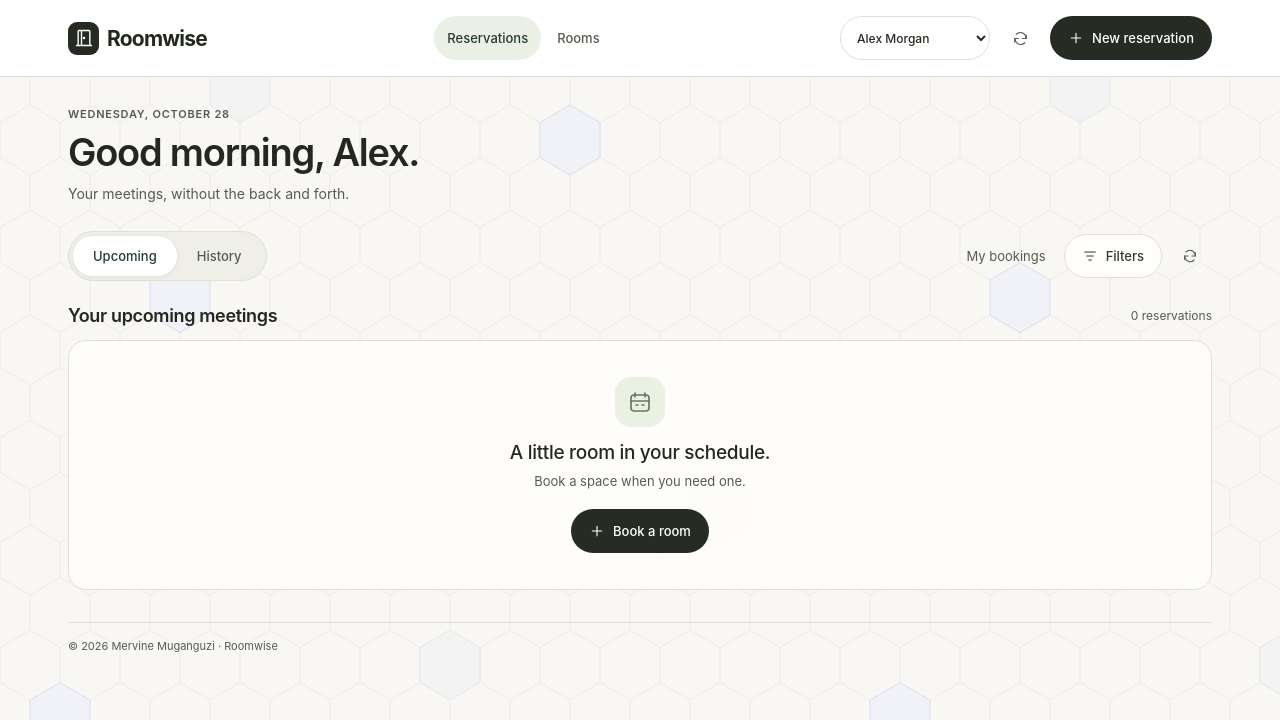
Test case: profile ownership › hides other members bookings and administrative views, while admin can manage them
Expected: the button "New reservation" is enabled, [1050,16,1212,60]
Expected: the heading "A little room in your schedule." is shown, [510,441,770,464]
Select "Administrator" in the dropdown named "Current profile" at (915, 38), box [840,16,990,60]
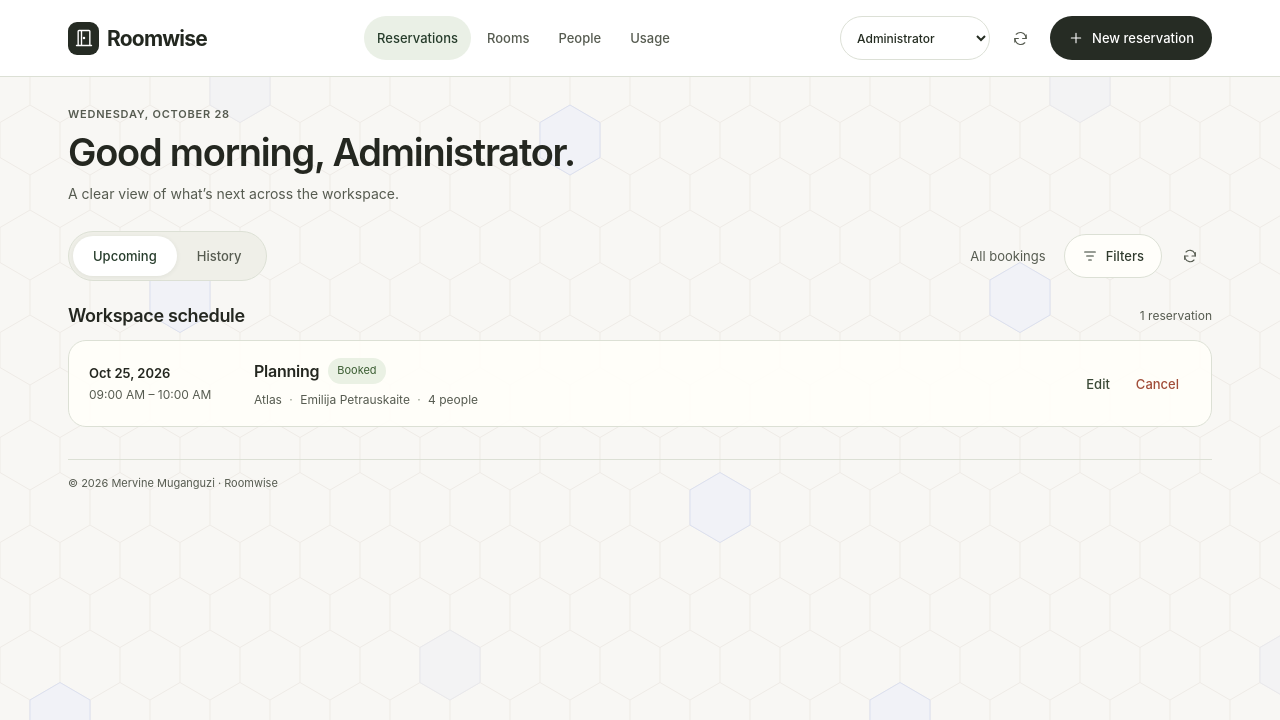
Result: the button "Edit" is shown at [1074,362,1122,406]
Select "Alex Morgan" in the dropdown named "Current profile" at (915, 38), box [840,16,990,60]
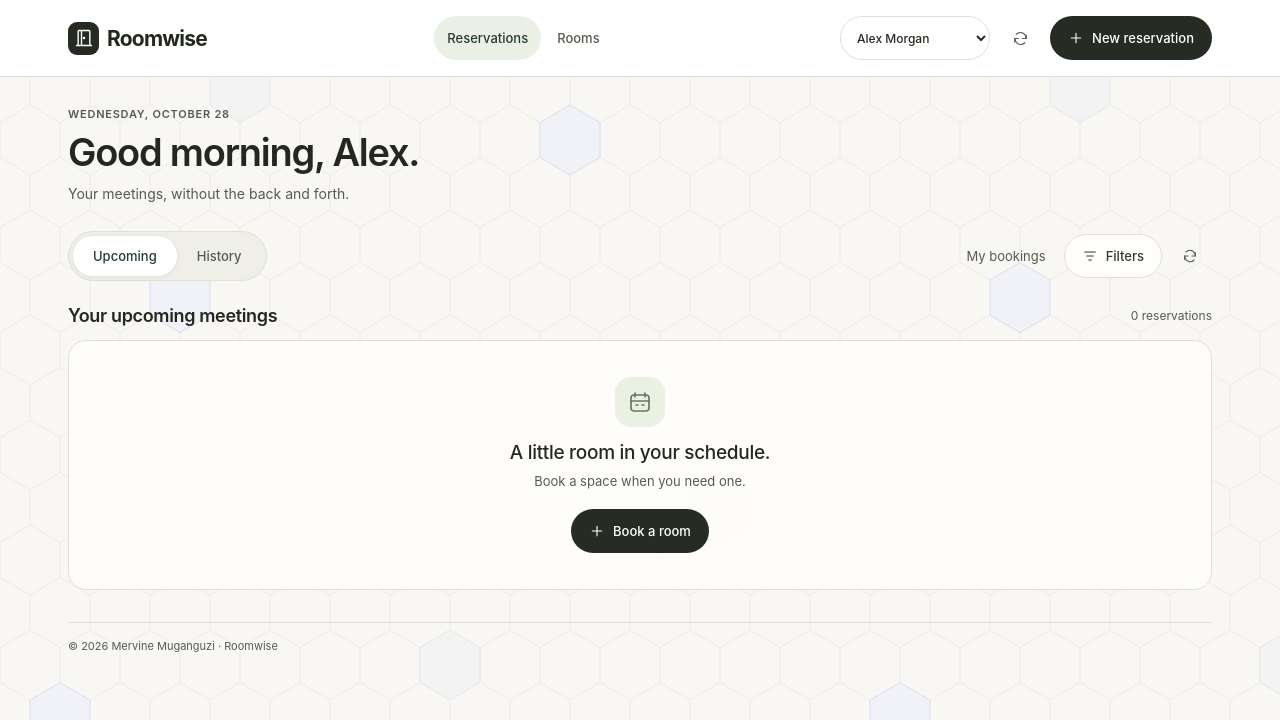
Result: the button "Edit" is gone
